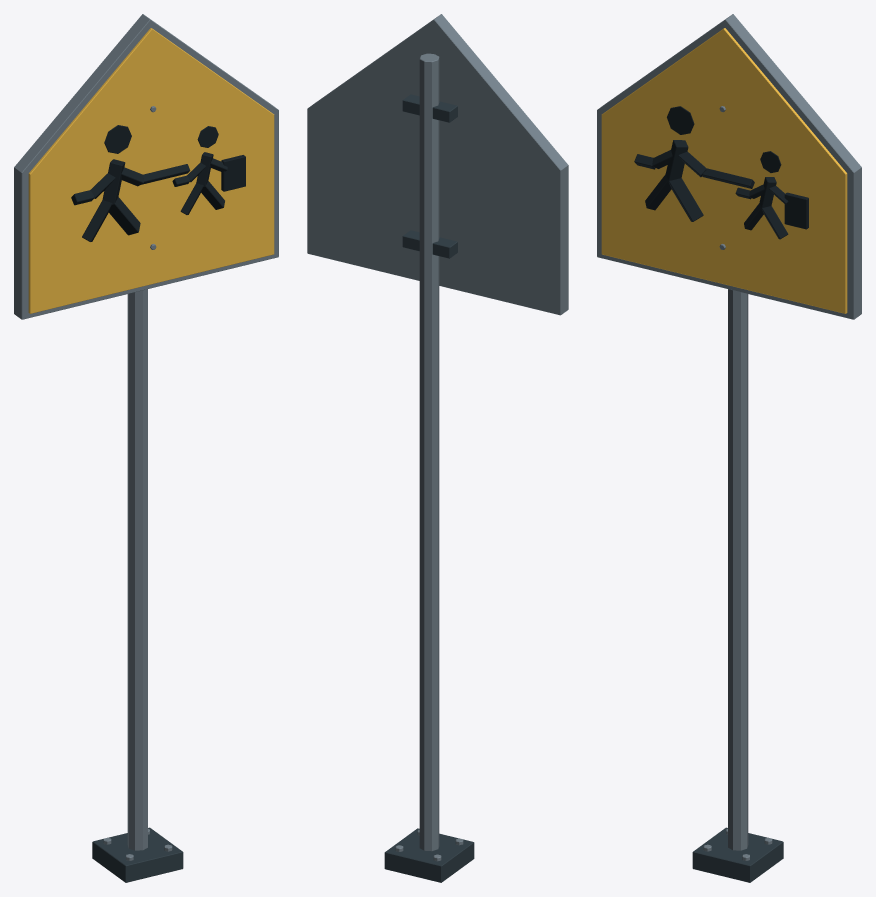
Rendered from b02_school_crossing.glb.
The picture shows the model from 3 angles, left to right: view 1: azimuth 30°, elevation 25°; view 2: azimuth 150°, elevation 25°; view 3: azimuth 330°, elevation 25°; orthographic projection.
Parts seen in each view (by area): view 1: b02_school_crossing; view 2: b02_school_crossing; view 3: b02_school_crossing.
Part boxes in pixels (x1=…): b02_school_crossing: x1=14, y1=14, x2=278, y2=882; b02_school_crossing: x1=307, y1=14, x2=568, y2=882; b02_school_crossing: x1=597, y1=14, x2=861, y2=882.
Bounding box in the file's own units: 0.7998 × 2.53 × 0.2137.
